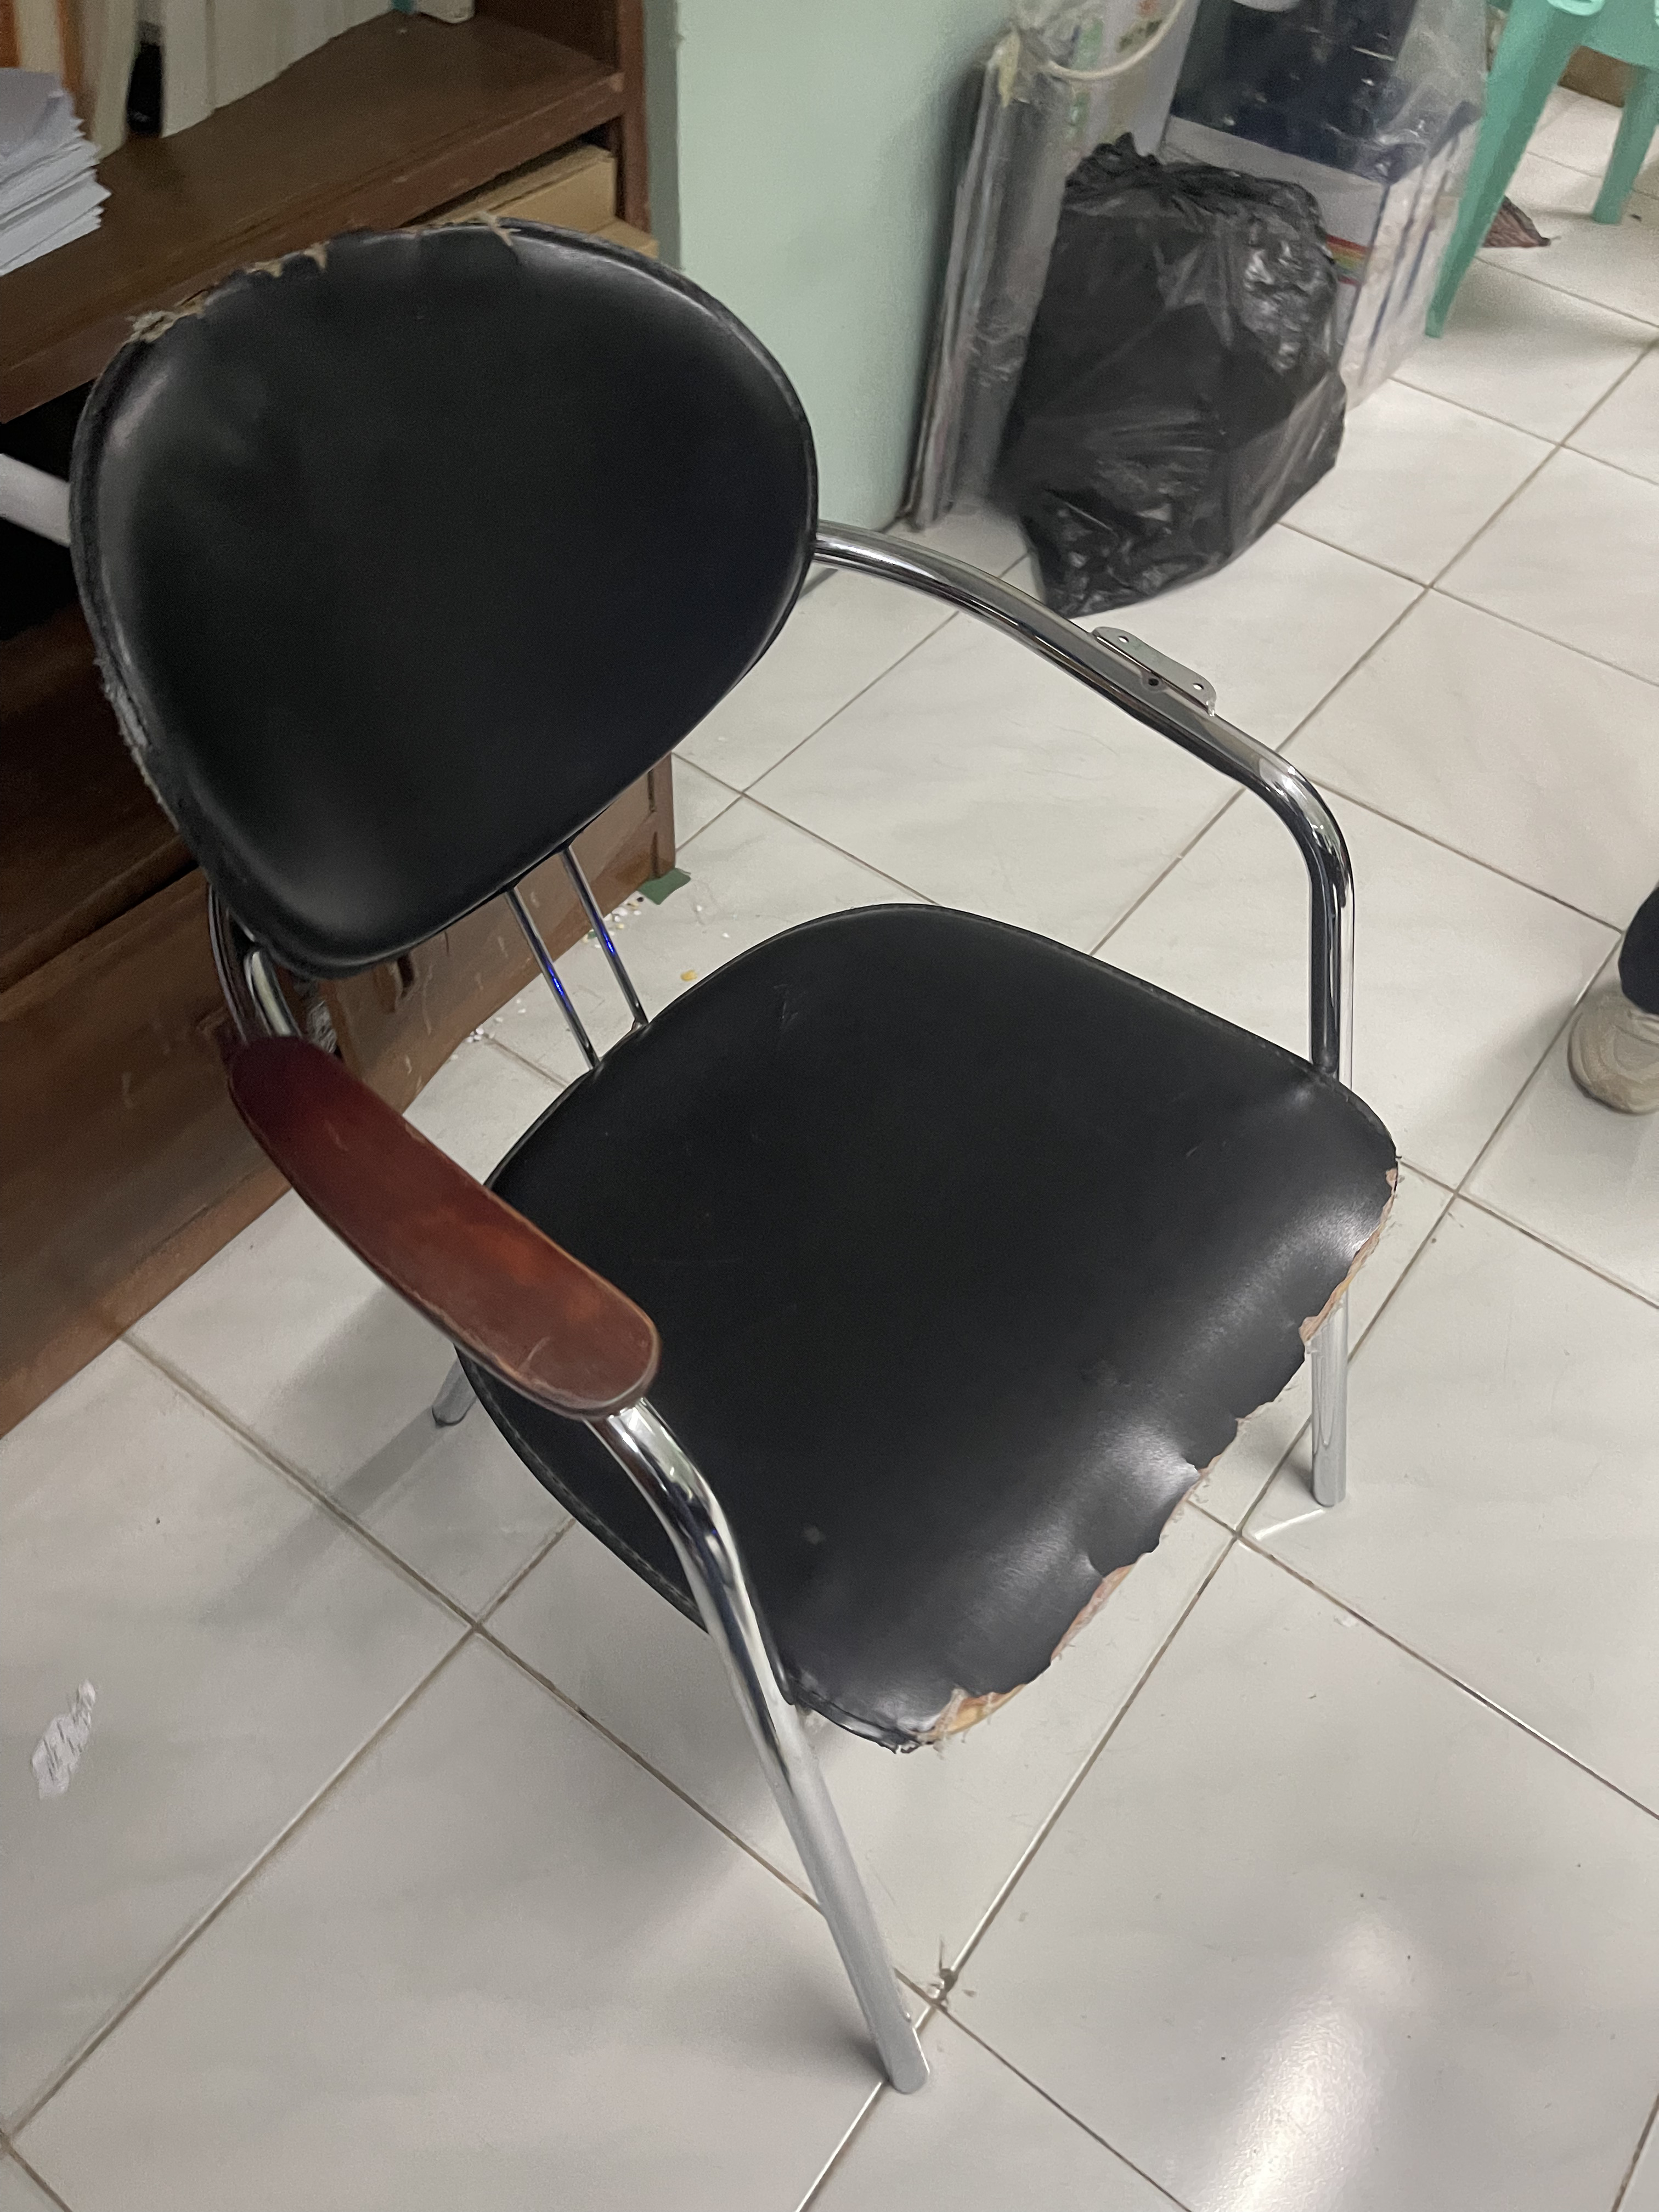chair1: (68, 216, 1405, 2109)
